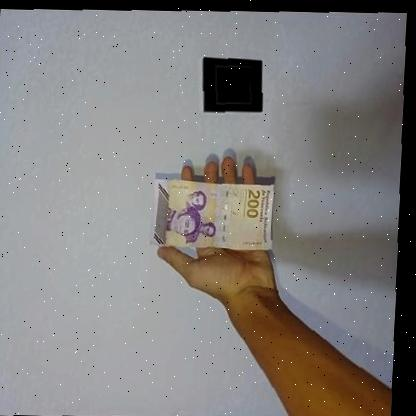vef_front: (151, 177, 278, 250)
